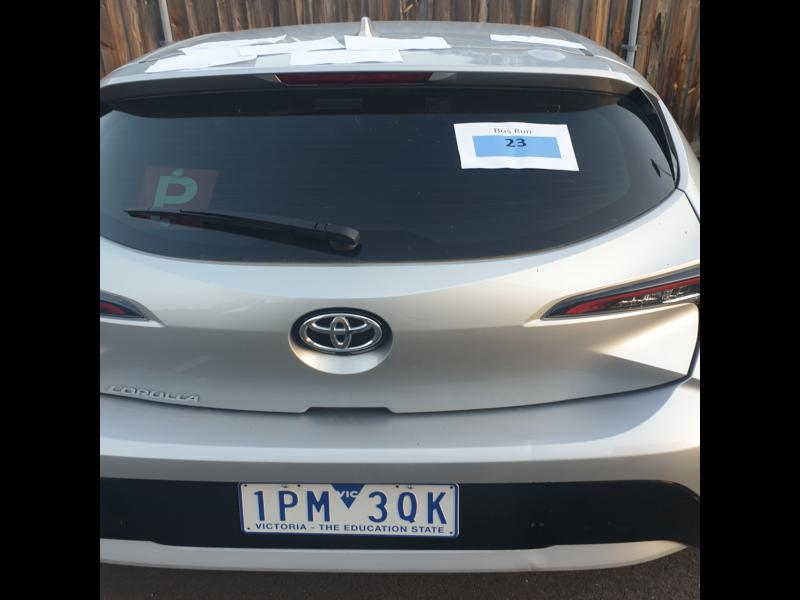BusRun: (473, 134, 557, 161)
PlateNo: (237, 481, 460, 539)
